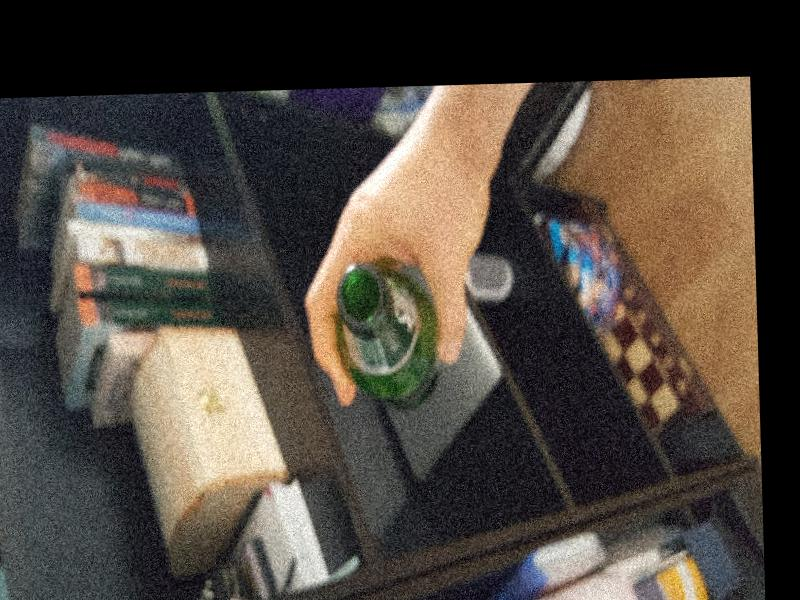Beer: (337, 260, 446, 411)
